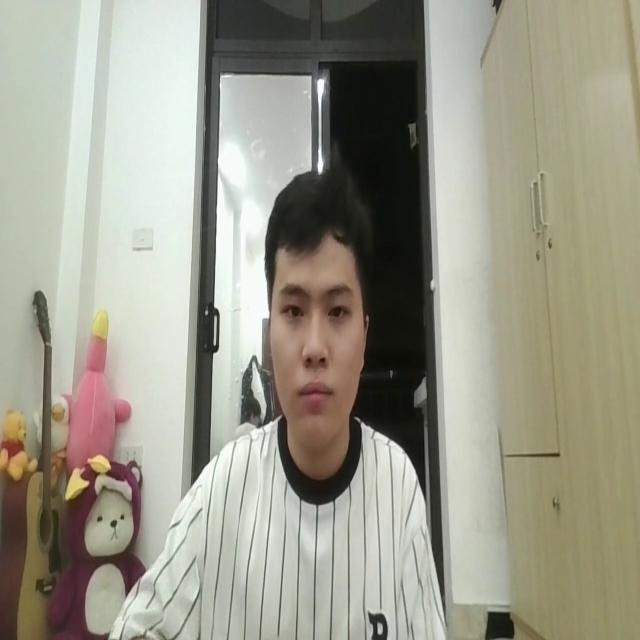student: (123, 157, 447, 640)
